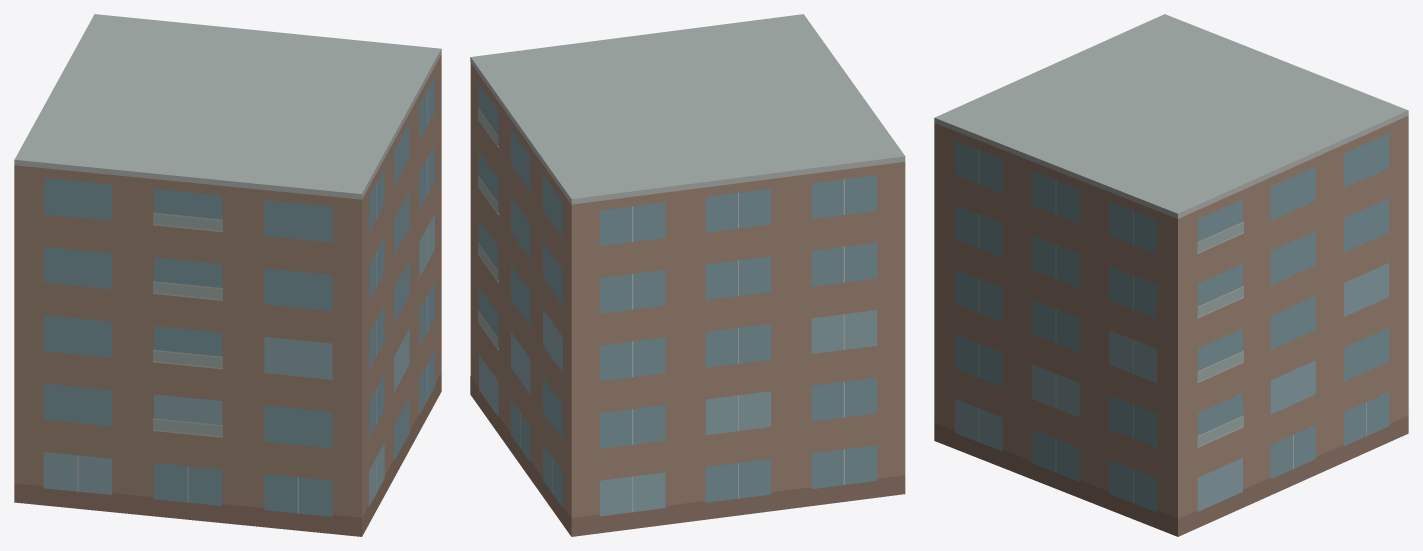
File: survey-upis-32637861.glb
The picture shows the model from 3 angles, left to right: view 1: azimuth 30°, elevation 25°; view 2: azimuth 150°, elevation 25°; view 3: azimuth 270°, elevation 25°; orthographic projection. The views are drawn at different scales.
Visible parts, largest first — view 1: survey-upis-32637861.tmp; view 2: survey-upis-32637861.tmp; view 3: survey-upis-32637861.tmp.
Boxes of the visible parts, box(x1,y1,x2,y2) form: survey-upis-32637861.tmp: box(14, 14, 441, 536); survey-upis-32637861.tmp: box(470, 14, 905, 536); survey-upis-32637861.tmp: box(934, 14, 1408, 536).
Size of the model in its own units: 20.23 by 15.25 by 20.29.
